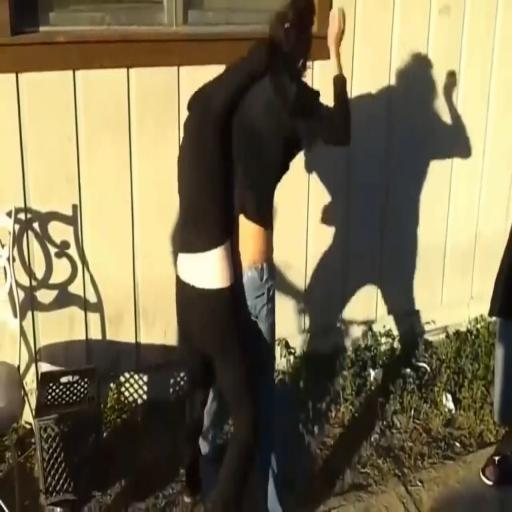violencia: (160, 0, 359, 512)
